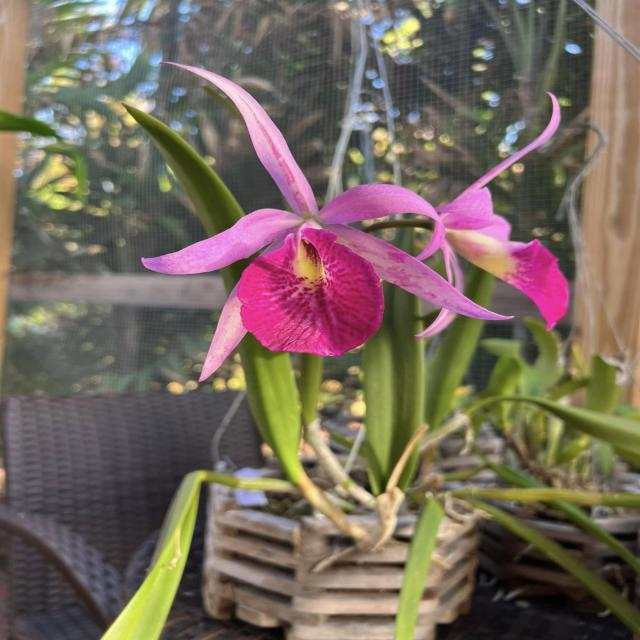flower: (142, 64, 508, 381), (435, 93, 569, 330)
leaf: (101, 471, 240, 640), (133, 110, 241, 235), (362, 304, 424, 479), (240, 335, 304, 485), (425, 318, 484, 425), (397, 500, 442, 639)
plant: (94, 23, 628, 640)
pot: (204, 431, 548, 640)
